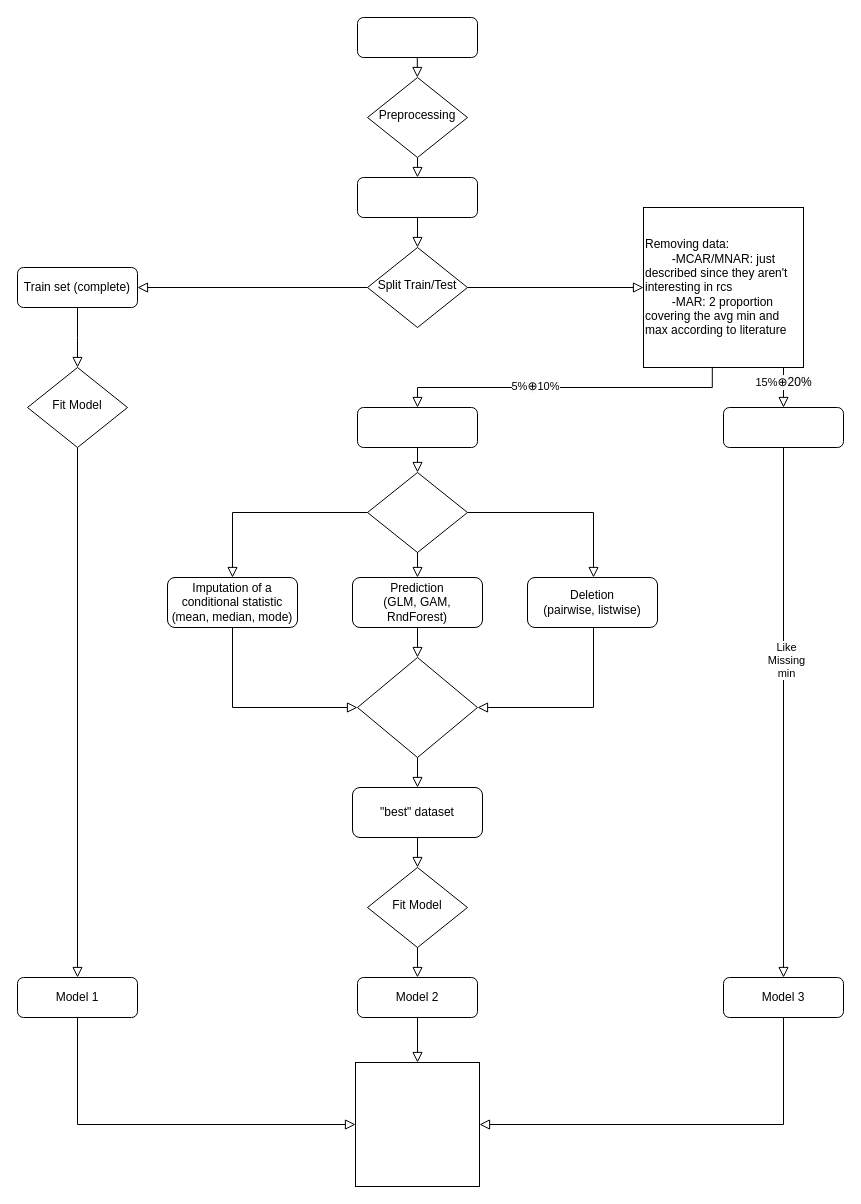
Some shapes in this 861 by 1204 pixel diagram are drawn without their labels. The box of each missing label's shape, as (x1, y1, x2, y2) in pixels:
Analysis: (366, 472, 468, 552)
Comparison between the predictions Final Discussing: (354, 1062, 480, 1186)
Compute metrics k-s w-m-w: (356, 656, 478, 758)
Data (original): (356, 16, 478, 58)
Data Cleaned: (356, 176, 478, 218)
Missing MAX: (722, 406, 844, 448)
Missing min: (356, 406, 478, 448)
